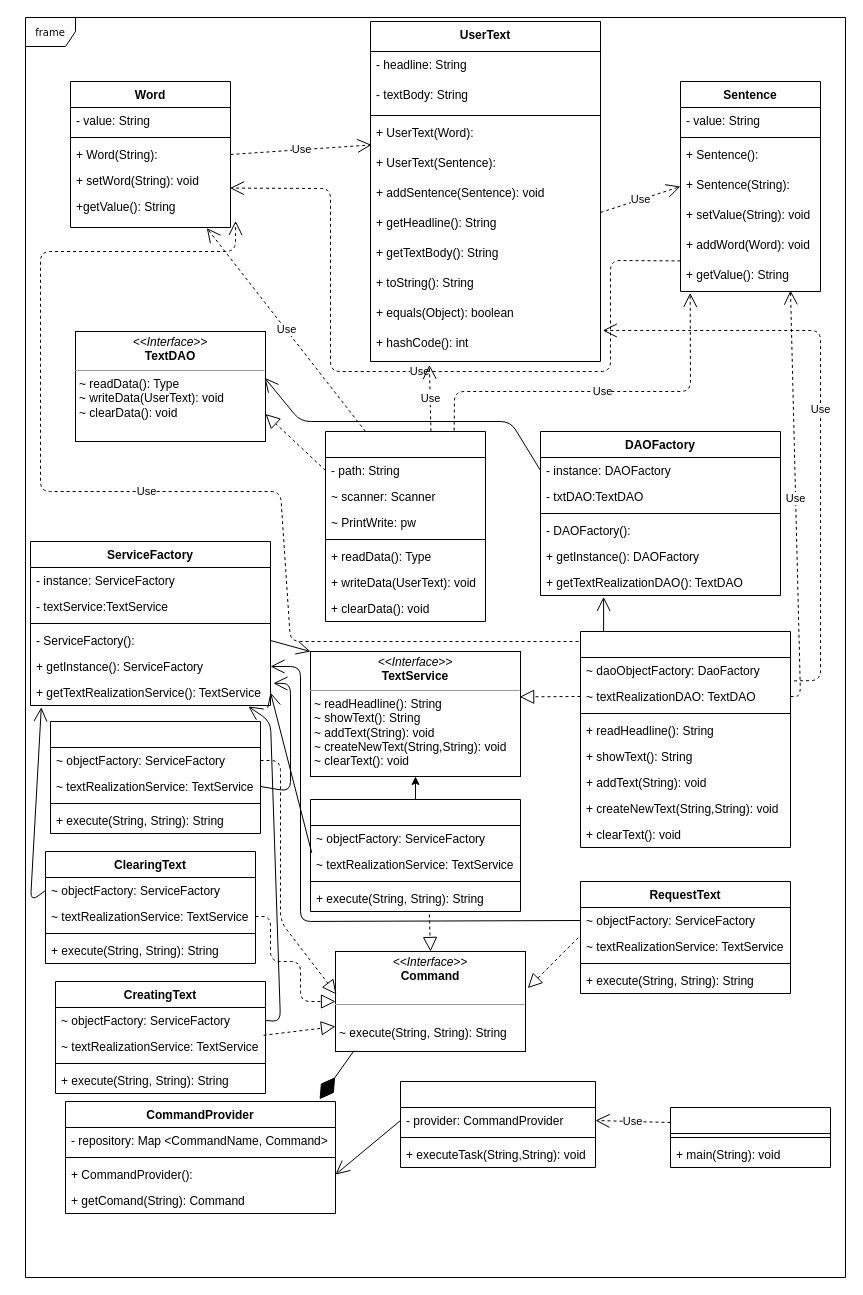
Some shapes in this 863 by 1295 pixel diagram are drawn without their labels. Each missing label, with the box of its shape:
AddingText: (50, 720, 260, 834)
Controller: (400, 1080, 596, 1168)
RequestHeadline: (310, 798, 520, 912)
TextDAORealization: (324, 430, 486, 622)
TextServiceRealization: (580, 630, 790, 848)
ViewMain: (670, 1106, 830, 1168)
